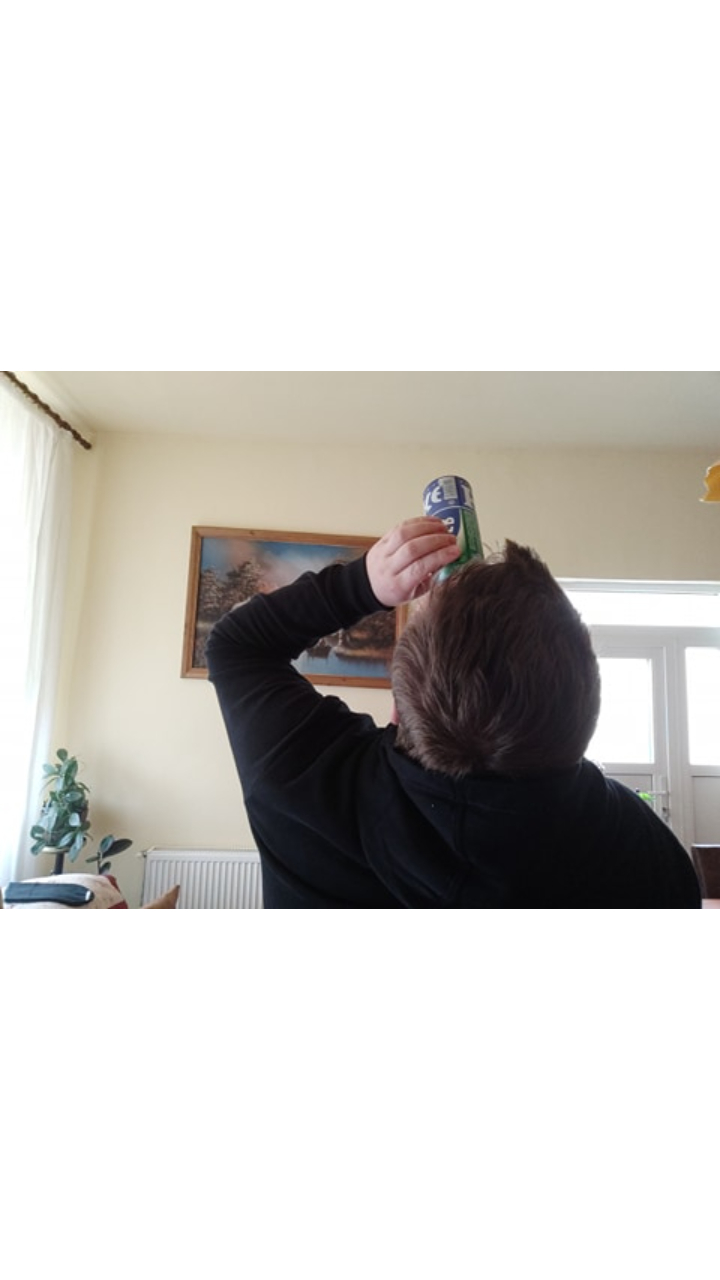Can: (417, 469, 483, 579)
